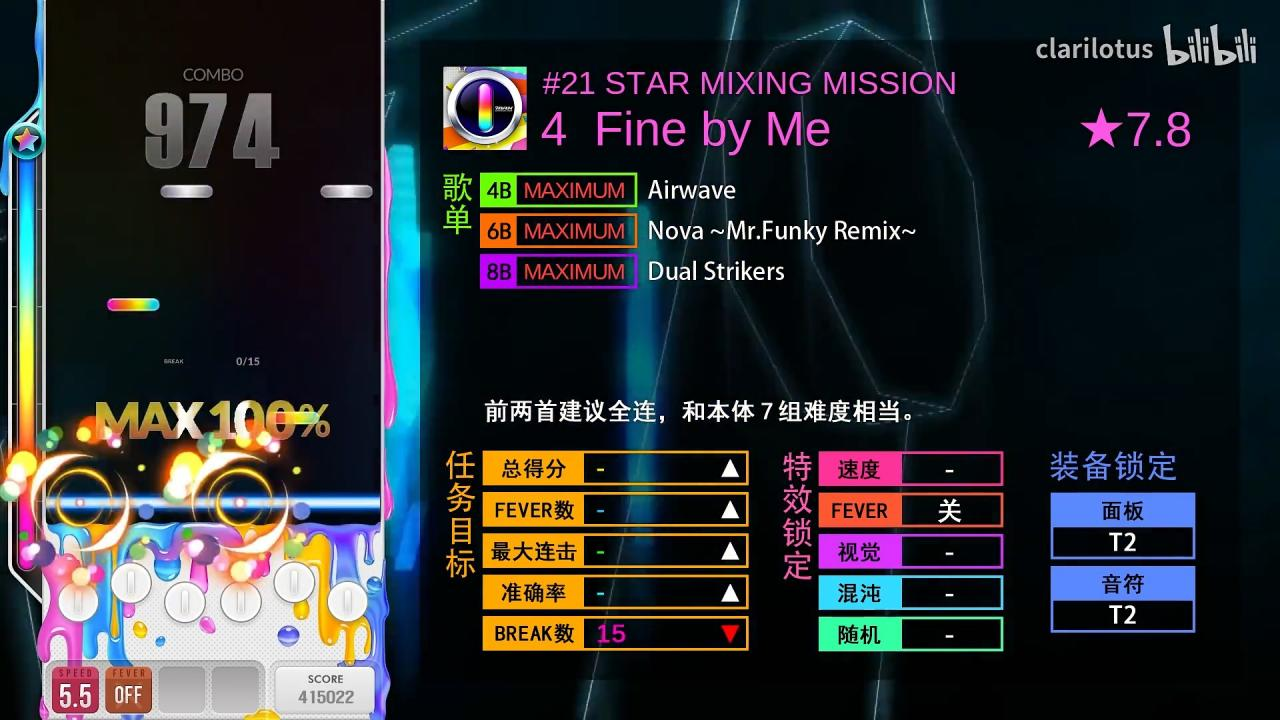note: (107, 298, 160, 313), (321, 184, 373, 199), (162, 185, 212, 198), (268, 412, 320, 424)
